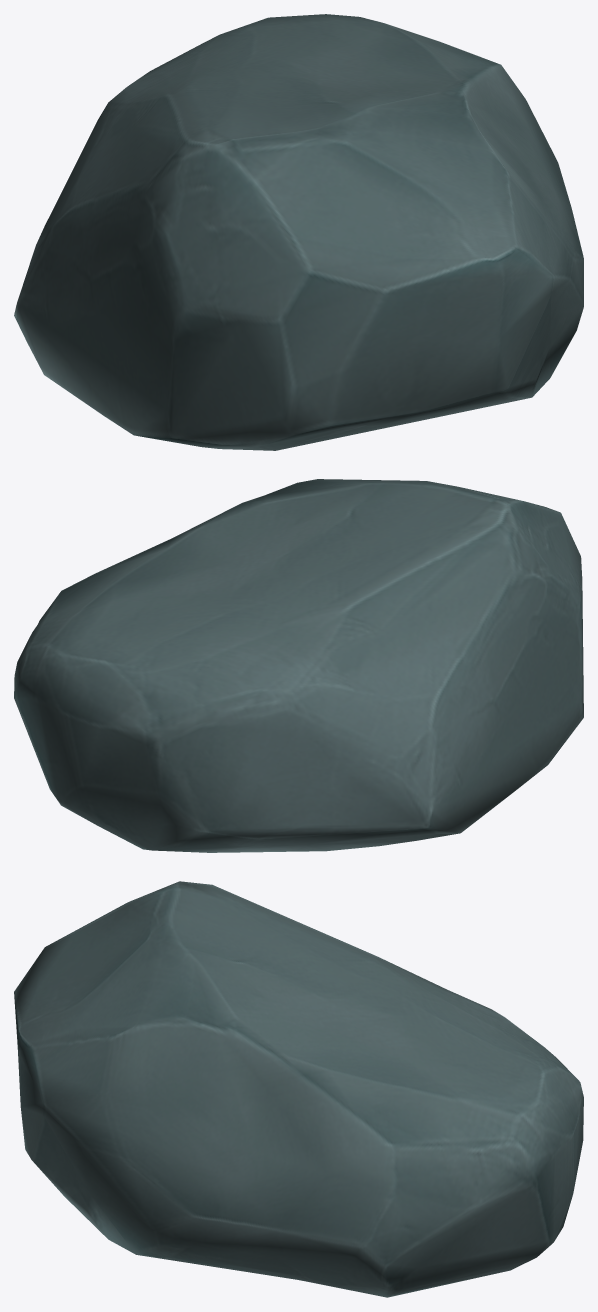
File: rock4.fbx
The picture shows the model from 3 angles, top to bottom: view 1: azimuth 30°, elevation 25°; view 2: azimuth 150°, elevation 25°; view 3: azimuth 270°, elevation 25°; orthographic projection. The views are drawn at different scales.
Visible parts, largest first — view 1: polySurface2148; view 2: polySurface2148; view 3: polySurface2148.
Boxes of the visible parts, x1,y1,x2,y2 form: polySurface2148: (14, 14, 583, 450); polySurface2148: (14, 479, 583, 852); polySurface2148: (14, 881, 583, 1297).
Bounding box in the file's own units: 1.41 × 0.8261 × 1.58.
